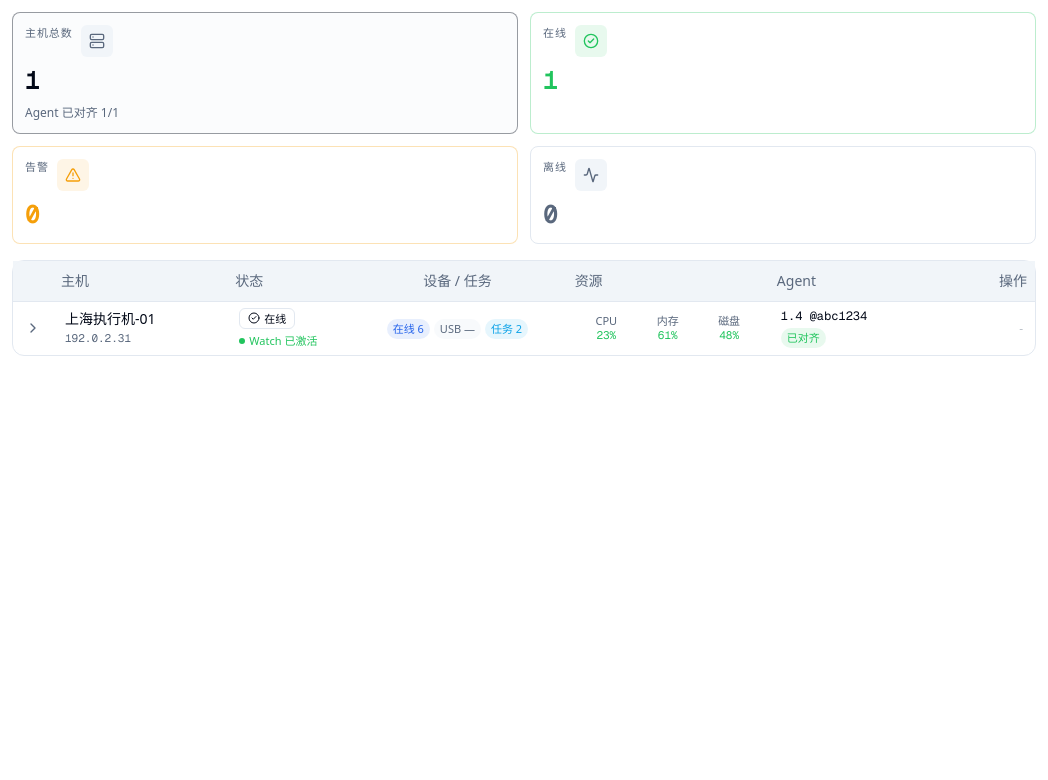
脚本在位（#2958 第五道闸） › 加载失败显示错误与重试入口（不渲染成空矩阵）
Click the text "上海执行机-01": (110, 319) [65, 309, 156, 328]
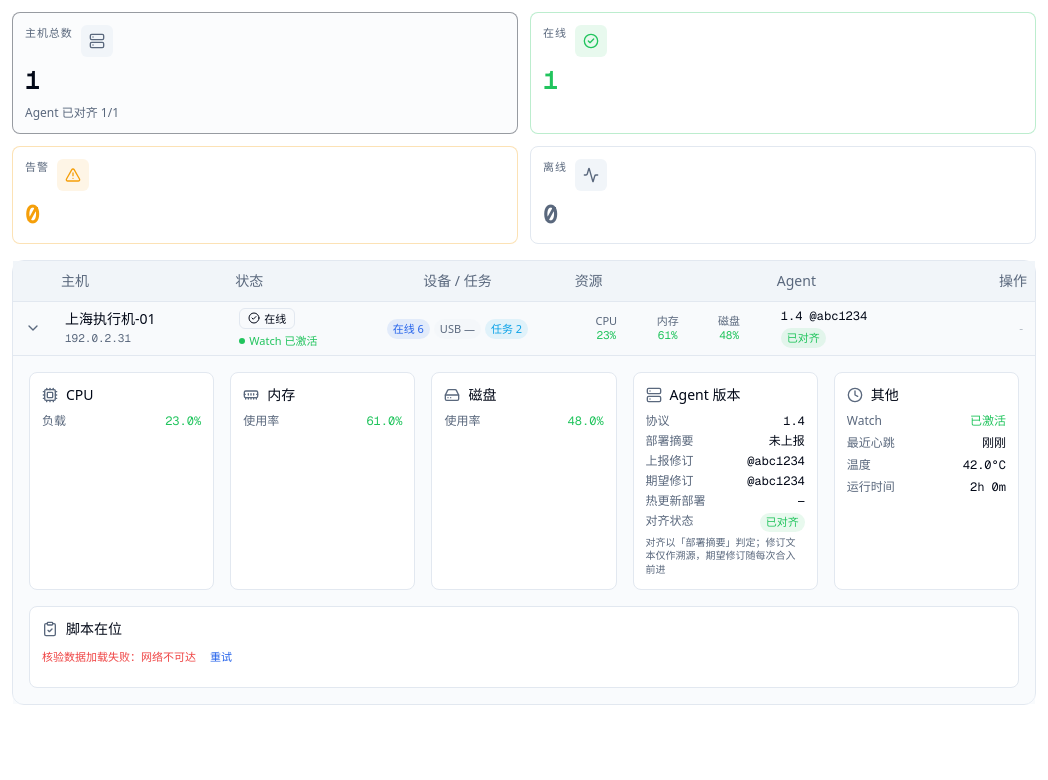
Expected: the text "核验数据加载失败：网络不可达 重试" is shown, [42, 647, 238, 666]
